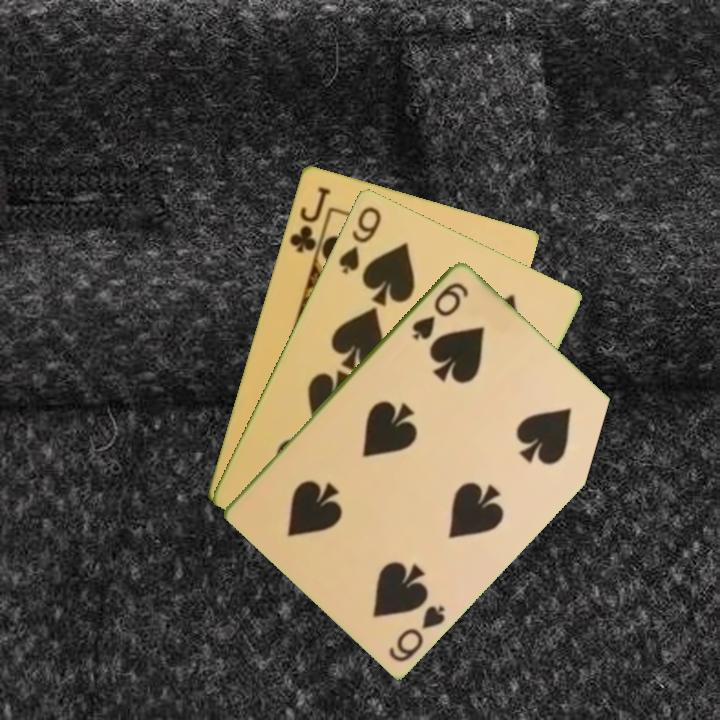6s: (408, 278, 472, 343), (385, 600, 449, 665)
9s: (335, 202, 384, 277)
Jc: (285, 182, 333, 256)
